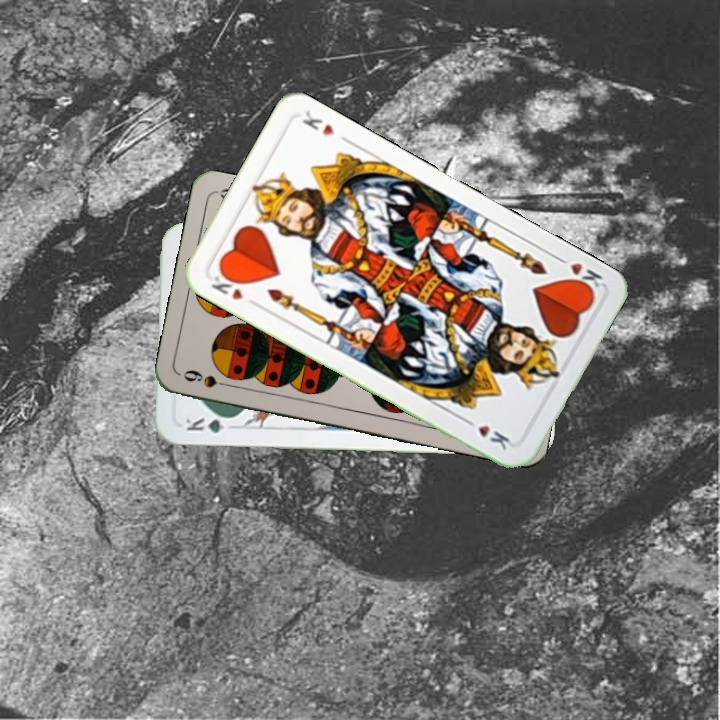GK: (181, 413, 239, 436)
HK: (551, 252, 606, 296), (207, 266, 247, 303)
S9: (179, 365, 237, 391)
